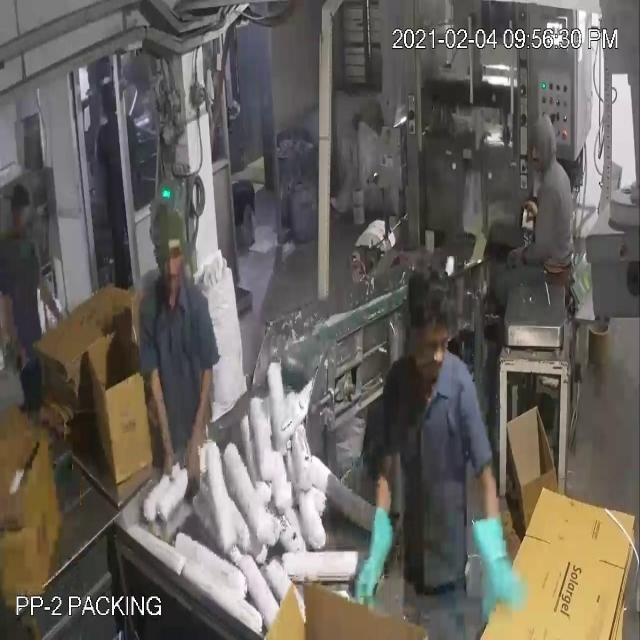No_Gloves: (18, 72, 500, 566)
